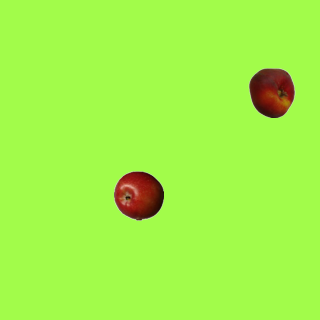Apple Braeburn: (113, 170, 163, 220)
Nectarine Flat: (246, 67, 296, 117)
